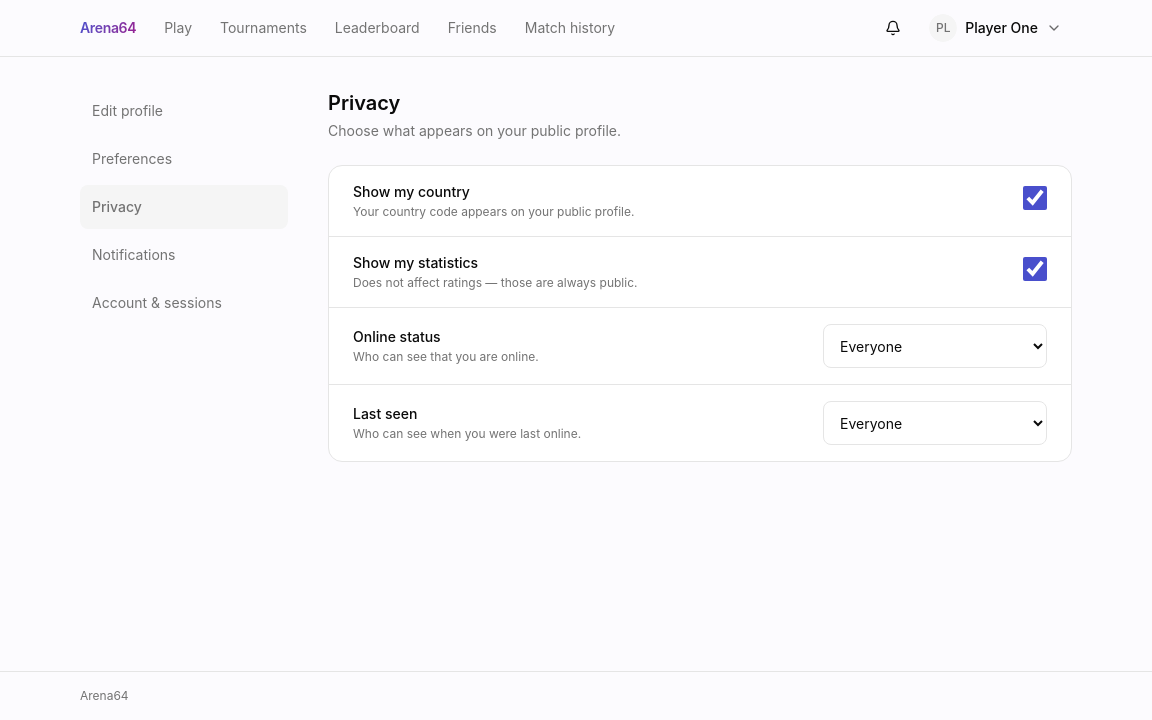
Test: privacy › saves through the server and lets the refetched public profile decide
Step 1. Click the checkbox labelled "Show my statistics" → (1035, 269), box [1023,257,1047,281]
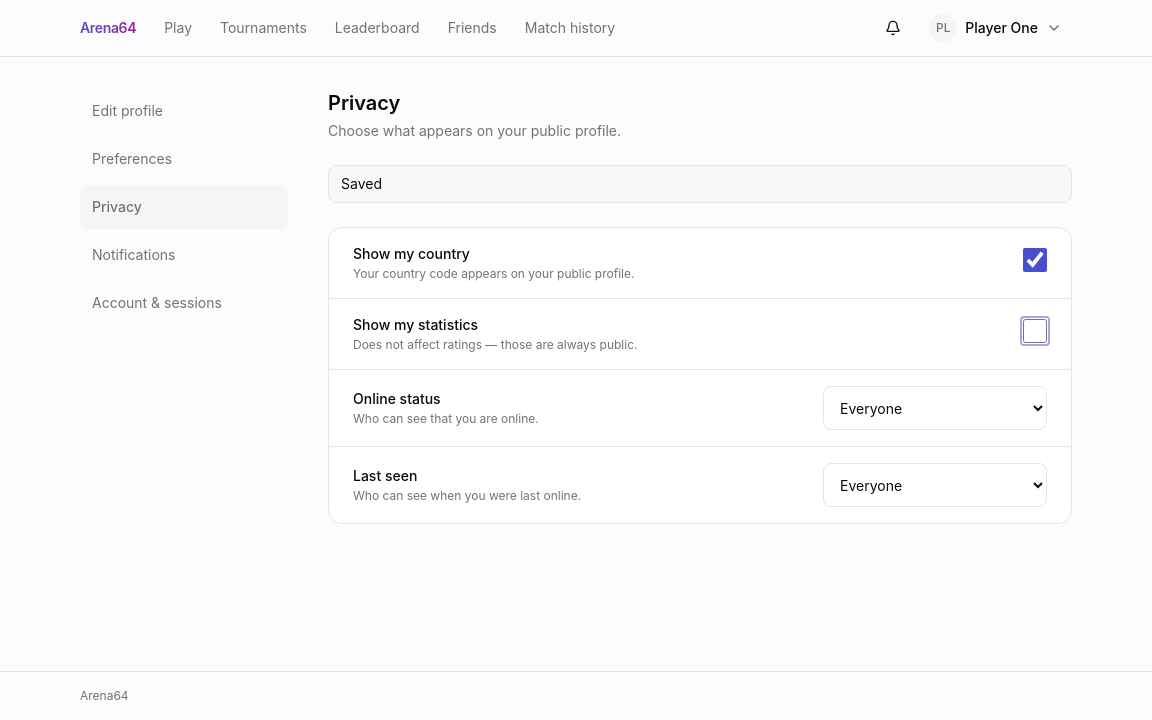
Expected: the checkbox labelled "Show my statistics" is not checked, [1023,319,1047,343]
Expected: the message reads "Saved", [341,175,382,192]
